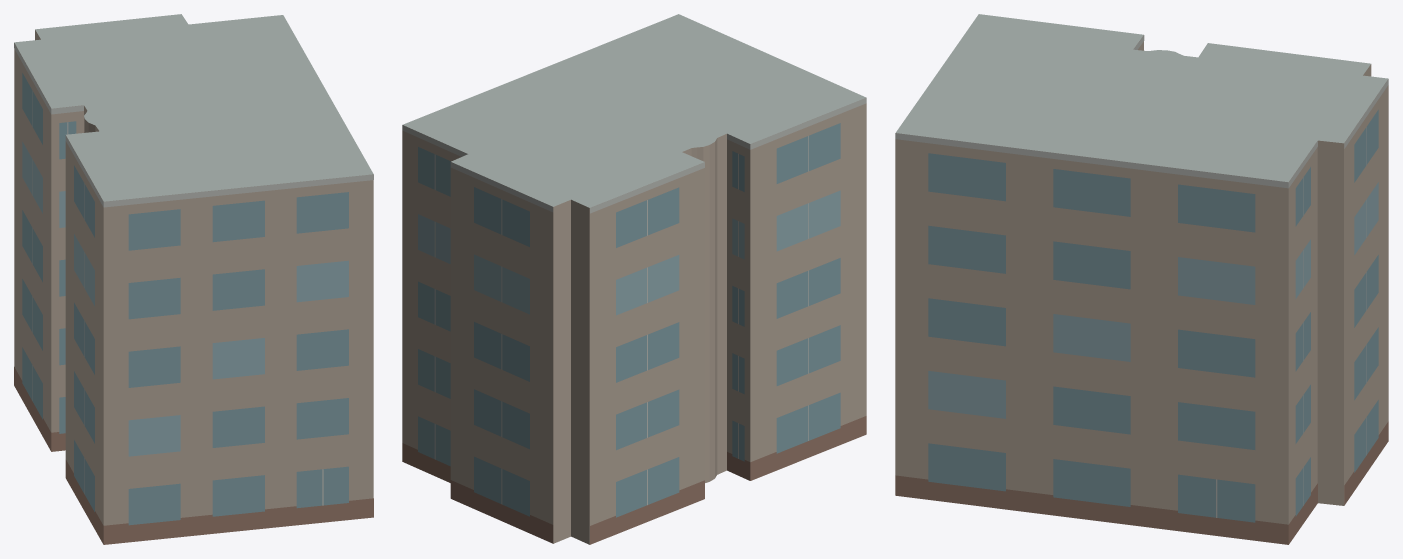
The model's file is survey-upis-32880508.glb.
3 views of the same model, side by side, from view 1: azimuth 30°, elevation 25°; view 2: azimuth 150°, elevation 25°; view 3: azimuth 270°, elevation 25° (orthographic). The views are drawn at different scales.
Parts seen in each view (by area): view 1: survey-upis-32880508.tmp; view 2: survey-upis-32880508.tmp; view 3: survey-upis-32880508.tmp.
Part boxes in pixels (bbox=[...]): survey-upis-32880508.tmp: bbox=[14, 14, 373, 544]; survey-upis-32880508.tmp: bbox=[402, 14, 866, 544]; survey-upis-32880508.tmp: bbox=[895, 14, 1388, 544].
Size of the model in its own units: 14.33 by 14.4 by 17.75.
